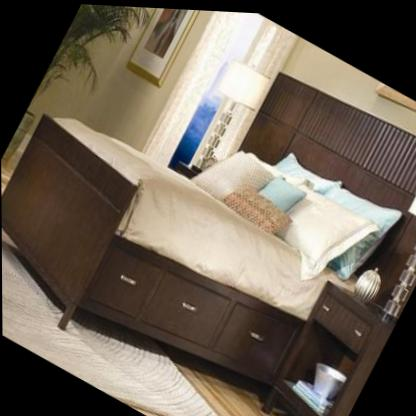Bed: (1, 113, 400, 384)
Carpet: (1, 254, 216, 416)
